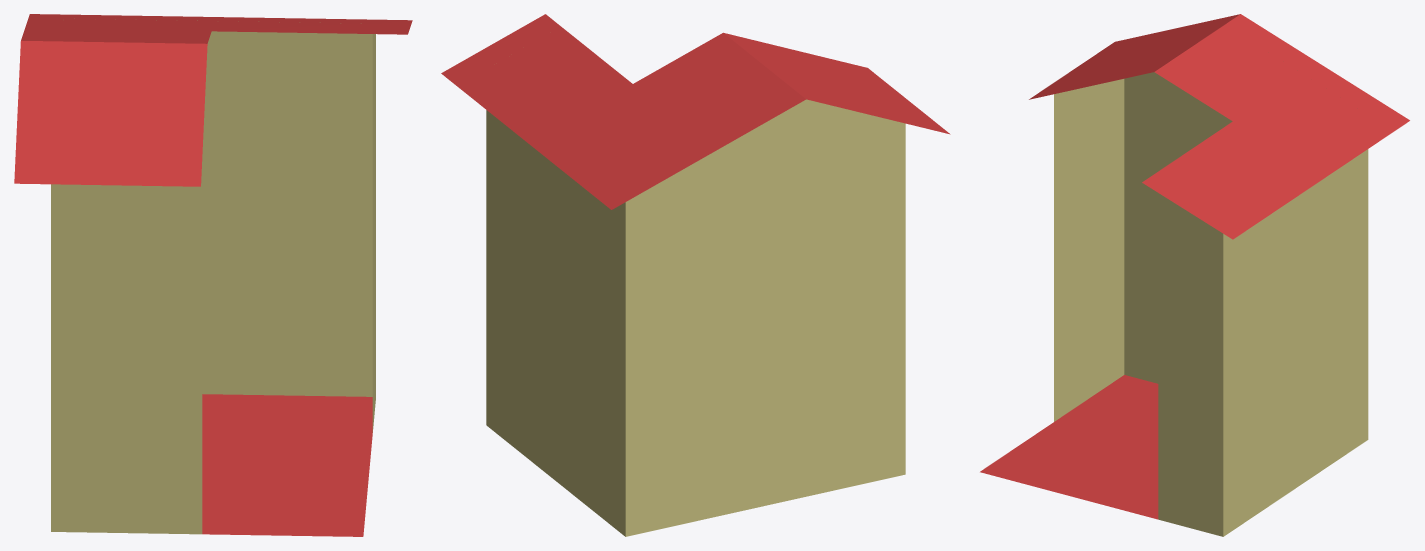
The picture shows the model from 3 angles, left to right: view 1: azimuth 30°, elevation 25°; view 2: azimuth 150°, elevation 25°; view 3: azimuth 270°, elevation 25°; orthographic projection. The views are drawn at different scales.
Size of the model in its own units: 7.64 by 7.04 by 6.78.
